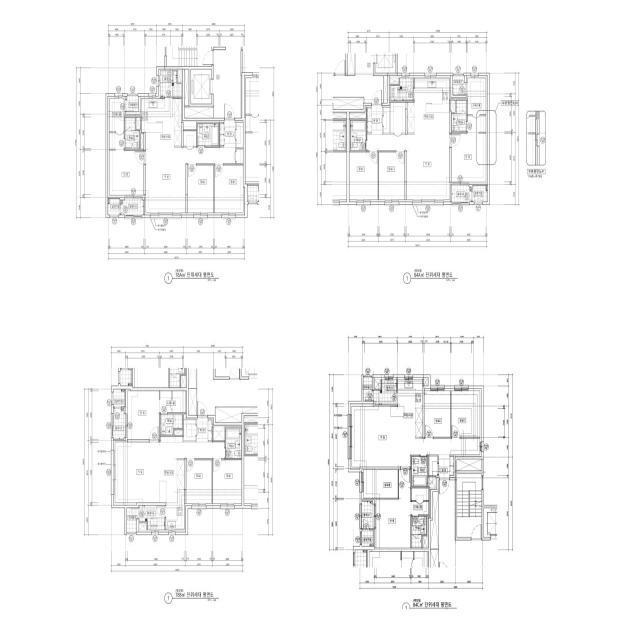space_balconi: (140, 506, 165, 530), (374, 380, 397, 405), (160, 71, 181, 97), (391, 78, 413, 101), (121, 198, 144, 215), (113, 408, 125, 439), (362, 501, 374, 529), (452, 185, 471, 202)
space_bedroom: (376, 470, 410, 548), (452, 133, 486, 182), (109, 151, 144, 195), (128, 391, 159, 439), (349, 152, 378, 200), (215, 165, 243, 213), (451, 391, 480, 437), (379, 152, 405, 200), (213, 460, 242, 503), (188, 165, 213, 213), (425, 391, 450, 437), (186, 460, 212, 503)
space_dressroom: (468, 78, 486, 132), (109, 99, 124, 149), (160, 391, 185, 413), (411, 488, 429, 515)
space_elevator: (191, 69, 212, 104)
space_elevator_hall: (214, 50, 241, 118)
space_front: (367, 105, 383, 133), (220, 119, 235, 147), (197, 417, 212, 442), (439, 455, 454, 478)
space_kitchen: (407, 78, 450, 133), (141, 98, 181, 146), (398, 380, 423, 437), (166, 459, 184, 530)
space_living_room: (352, 406, 480, 467), (115, 437, 225, 503), (146, 146, 235, 213), (367, 133, 450, 200)
space_multipurpose_space: (364, 470, 398, 498)
space_other: (430, 492, 439, 549), (391, 102, 405, 133), (184, 107, 213, 118), (457, 459, 482, 471), (127, 508, 138, 532), (184, 420, 196, 441), (453, 76, 466, 95), (125, 96, 138, 112), (189, 389, 197, 415), (363, 378, 372, 401), (183, 131, 196, 146), (184, 69, 189, 105), (236, 123, 243, 148), (213, 427, 225, 441), (429, 456, 437, 476), (384, 108, 390, 133), (236, 149, 243, 164), (428, 477, 436, 488), (349, 114, 366, 119), (384, 76, 387, 103), (390, 78, 399, 84), (375, 380, 381, 389), (139, 523, 146, 530), (136, 117, 140, 129), (451, 100, 455, 112), (423, 536, 427, 548), (141, 134, 144, 149), (174, 430, 183, 435), (178, 71, 182, 82), (424, 379, 427, 386)
space_outdoor_room: (472, 186, 487, 202), (113, 389, 125, 407), (108, 199, 120, 215), (362, 530, 373, 546)
space_staircase: (457, 474, 482, 537)
space_toilet: (350, 120, 366, 151), (197, 124, 219, 146), (160, 414, 183, 435), (125, 117, 140, 149), (411, 516, 426, 548), (412, 456, 427, 487), (226, 428, 241, 458), (452, 100, 466, 132)
